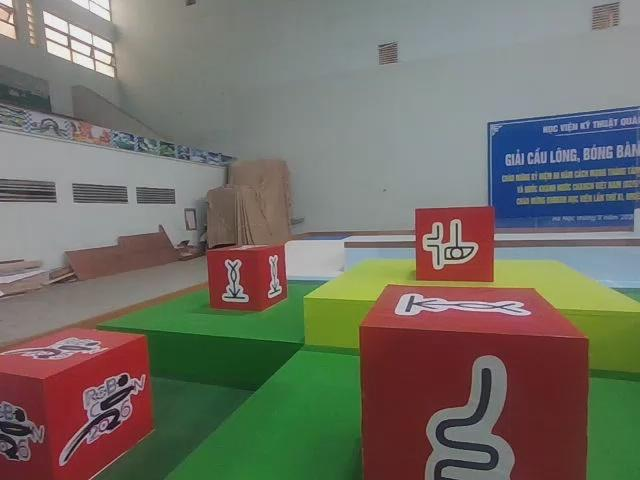R1: (0, 322, 155, 478)
R2 Fake: (355, 283, 592, 480)
R2 Real: (411, 202, 498, 287), (203, 243, 290, 314)
